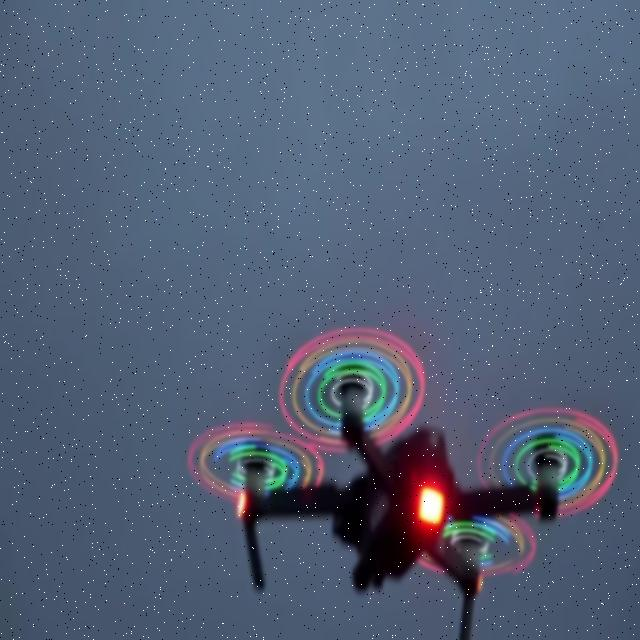UAV: (188, 325, 618, 640)
